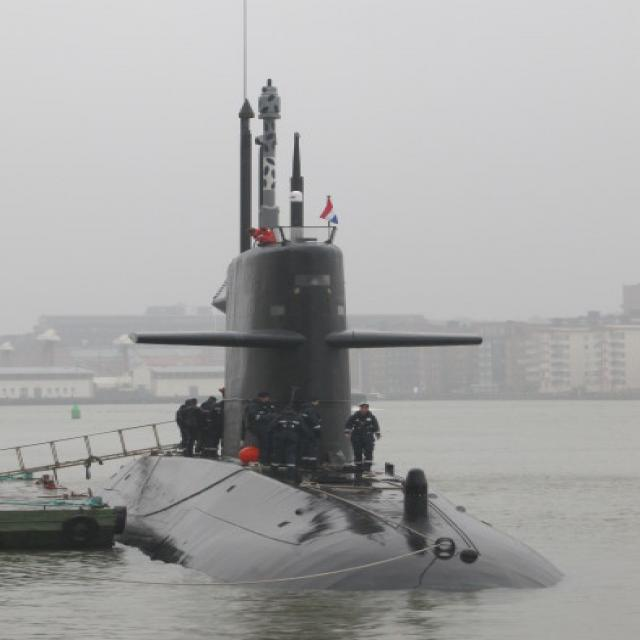submarine: (87, 64, 573, 594)
